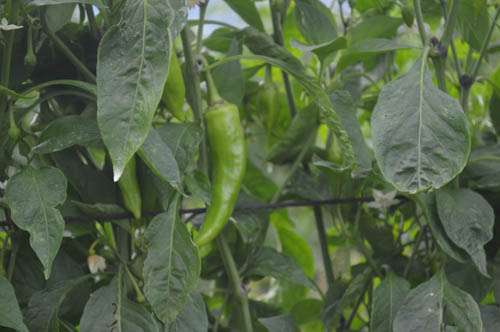ChiliPepper: (194, 103, 241, 251), (110, 164, 150, 221), (165, 59, 188, 122)
